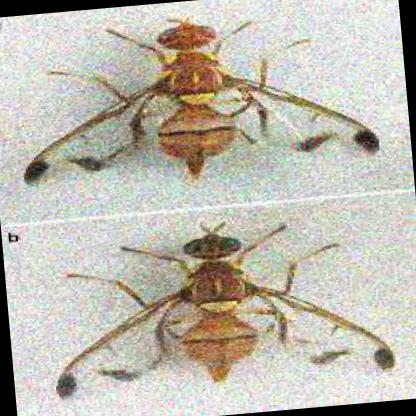fruit fly: (55, 232, 396, 404), (24, 22, 381, 184)
